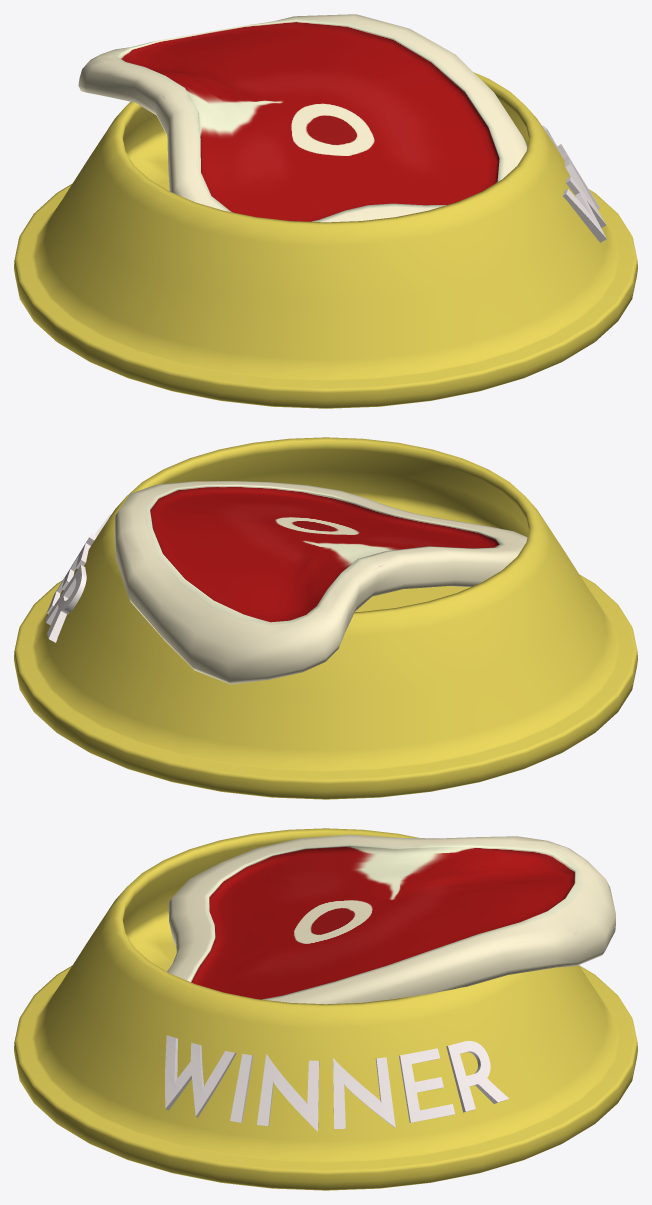
File: DogBowl.FBX
3 renders of one model, top to bottom at view 1: azimuth 30°, elevation 25°; view 2: azimuth 150°, elevation 25°; view 3: azimuth 270°, elevation 25°, orthographic.
Visible parts, largest first — view 1: DogBowl; view 2: DogBowl; view 3: DogBowl.
Boxes of the visible parts, x1,y1,x2,y2 form: DogBowl: [14, 14, 637, 408]; DogBowl: [14, 437, 637, 799]; DogBowl: [14, 828, 637, 1190].
Bounding box in the file's own units: 14.18 × 4.39 × 14.18.
3 materials, 1 textured.
